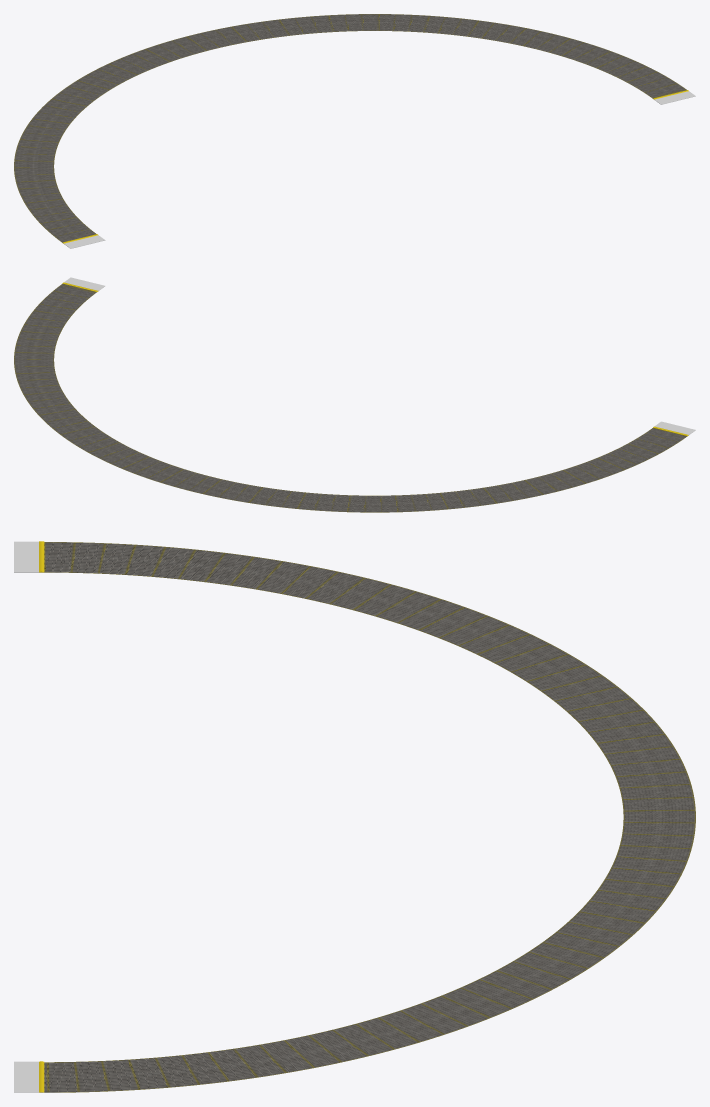
The model's file is RoundWalkway.fbx.
The picture shows the model from 3 angles, top to bottom: view 1: azimuth 30°, elevation 25°; view 2: azimuth 150°, elevation 25°; view 3: azimuth 270°, elevation 25°; orthographic projection. The views are drawn at different scales.
Visible parts, largest first — view 1: Cylinder, Threshold Surface; view 2: Cylinder, Threshold Surface; view 3: Cylinder, Threshold Surface.
Part boxes in pixels (x1,y1,x2,y2): Cylinder: [14, 14, 686, 242]; Threshold Surface: [64, 91, 695, 248]; Cylinder: [14, 284, 686, 512]; Threshold Surface: [64, 277, 695, 434]; Cylinder: [44, 542, 695, 1092]; Threshold Surface: [14, 541, 38, 1092].
Size of the model in its own units: 3598 by 2.52 by 1883.
